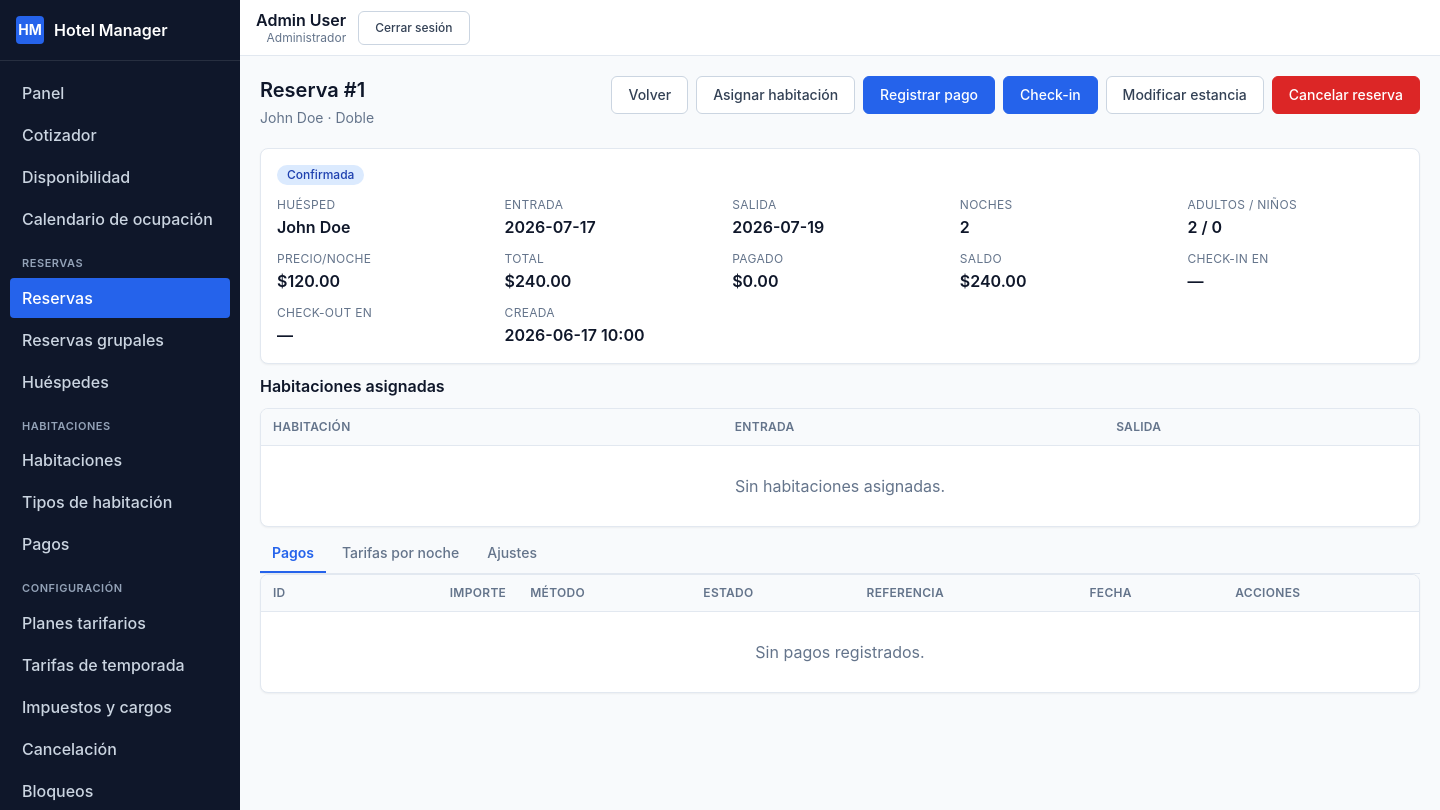
Test: ReservationDetailPage › realiza check-in de una reserva confirmada
expect the heading "Reserva #1" is shown: met, box x1=260 y1=76 x2=374 y2=104
Click the button "Check-in" at (1050,95), box x1=1003 y1=76 x2=1098 y2=114
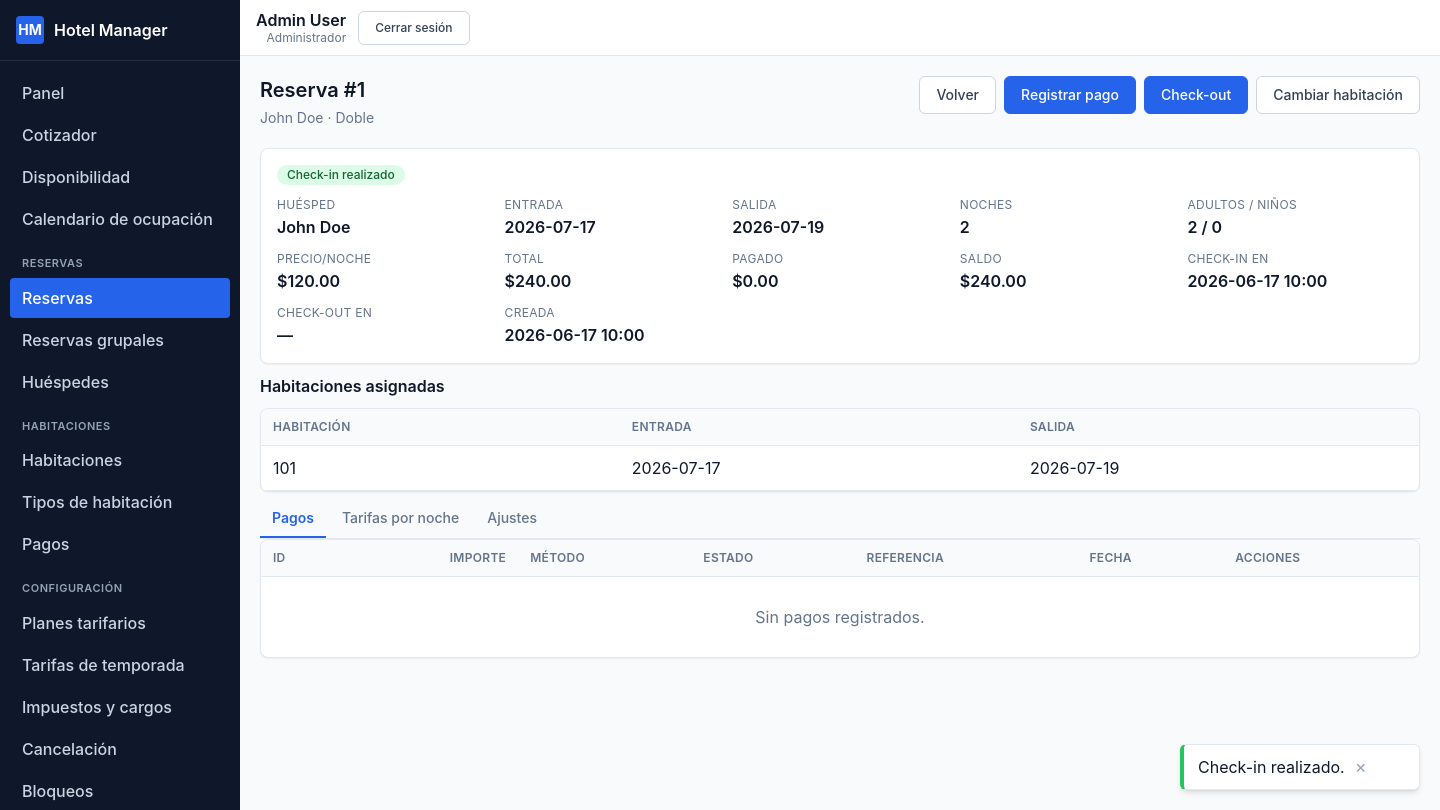
expect the text "Check-in realizado." is shown: met, box x1=1198 y1=755 x2=1345 y2=779
expect the text "Check-in realizado" is shown: met, box x1=277 y1=165 x2=405 y2=185
